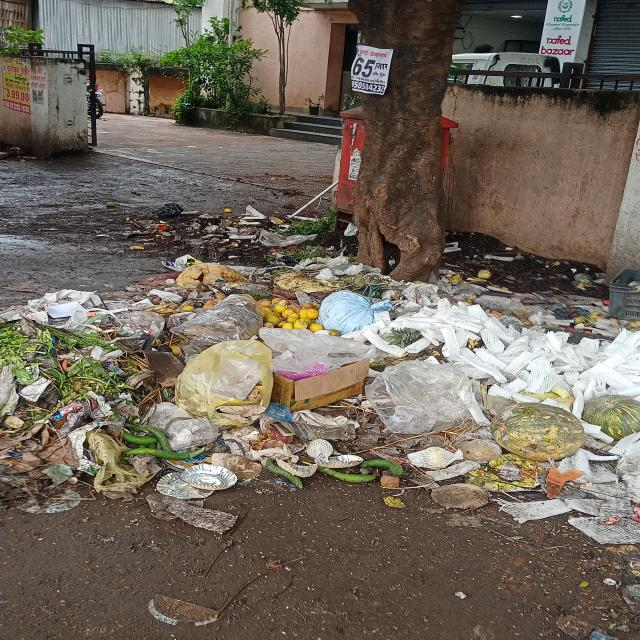garbage: (4, 264, 640, 556)
